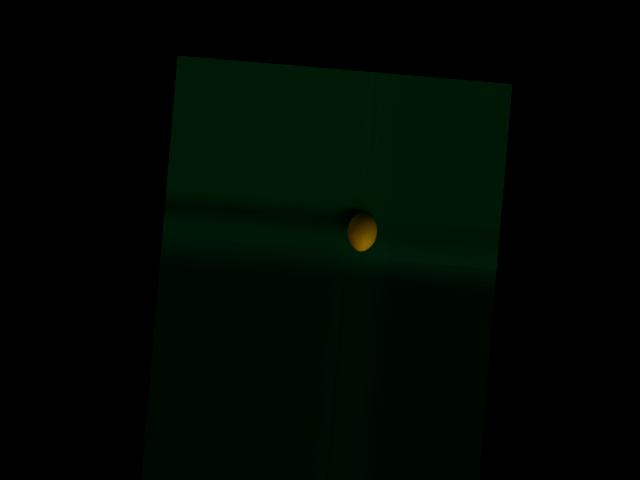egg: (346, 211, 379, 253)
